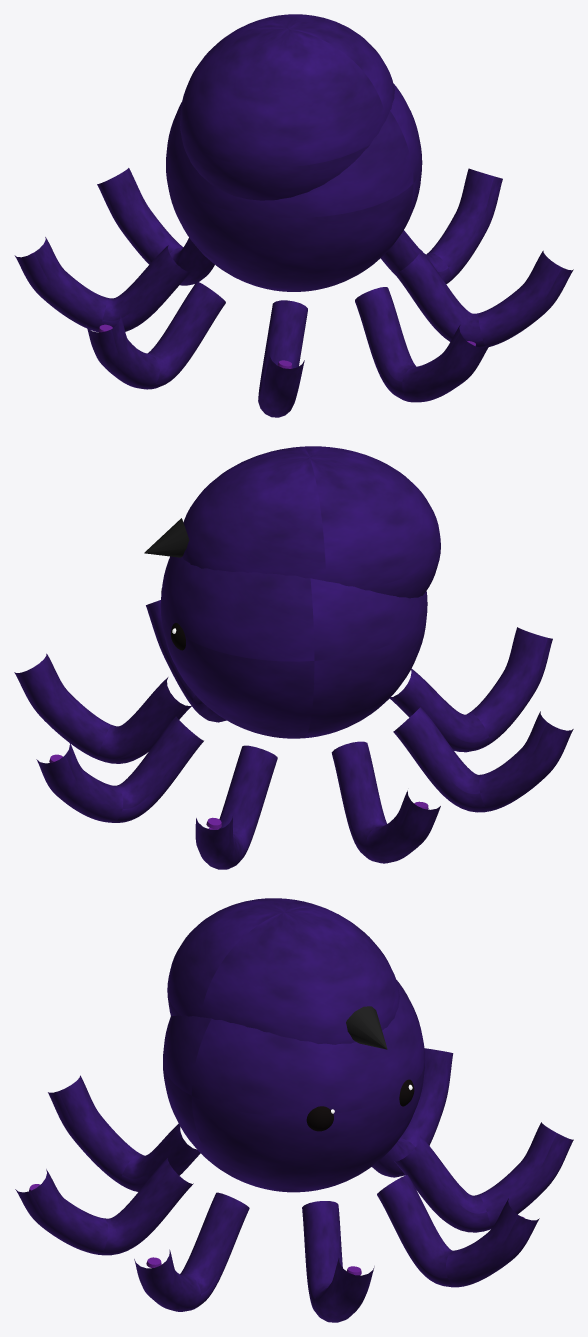
The model's file is kraken_profundo.glb.
3 views of the same model, one above another, from view 1: azimuth 30°, elevation 25°; view 2: azimuth 150°, elevation 25°; view 3: azimuth 270°, elevation 25° (orthographic). The views are drawn at different scales.
Visible parts, largest first — view 1: head, tentacle4, tentacle8, tentacle5, tentacle7, tentacle3, tentacle1, tentacle6; view 2: head, tentacle7, tentacle3, tentacle6, tentacle2, tentacle8, tentacle1, tentacle4; view 3: head, tentacle1, tentacle2, tentacle5, tentacle6, tentacle4, tentacle3, tentacle8, kraken.
Part boxes in pixels (x1,y1,x2,y2): head: (166,14,422,291); tentacle4: (394,250,573,347); tentacle8: (14,237,192,332); tentacle5: (355,287,489,402); tentacle7: (86,281,225,389); tentacle3: (380,168,502,283); tentacle1: (97,168,214,285); tentacle6: (258,300,307,417); head: (144,446,440,738); tentacle7: (393,707,573,812); tentacle3: (14,653,193,763); tentacle6: (390,627,552,752); tentacle2: (36,716,203,822); tentacle8: (331,741,440,863); tentacle1: (195,745,277,869); tentacle4: (146,600,226,722); head: (163,898,424,1192); tentacle1: (394,1122,573,1232); tentacle2: (377,1175,539,1287); tentacle5: (15,1158,193,1255); tentacle6: (48,1075,200,1191); tentacle4: (134,1192,249,1311); tentacle3: (302,1201,374,1322); tentacle8: (372,1048,453,1177); kraken: (306,1079,414,1131).
Size of the model in its own units: 3.36 by 2.16 by 3.36.
11 materials, 1 textured.
